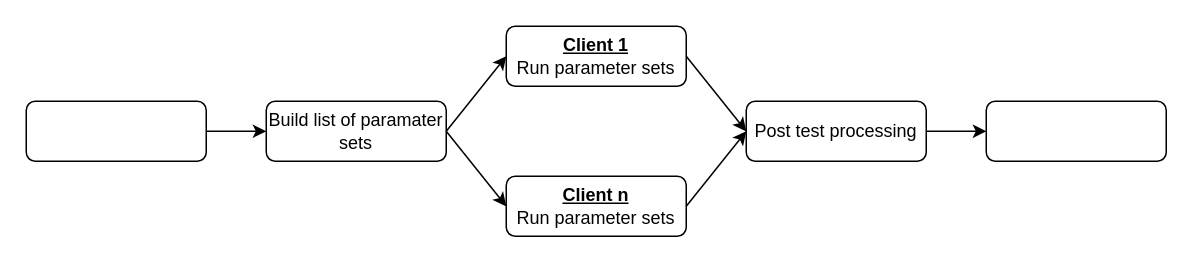
The diagram is 1193 pixels wide and 263 high, and some of its shapes have lost their labels. Each missing label, with the centre of its shape:
"Determine parameters to test" goes at [115,130].
"Upload results" goes at [1075,130].
